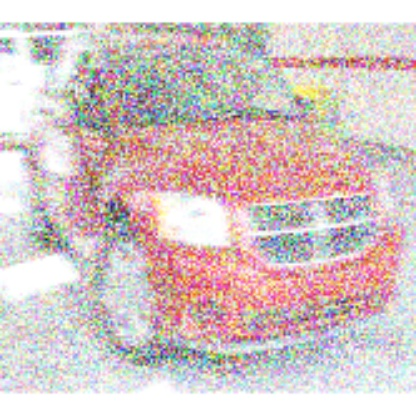Vehicle: (17, 30, 406, 370)
